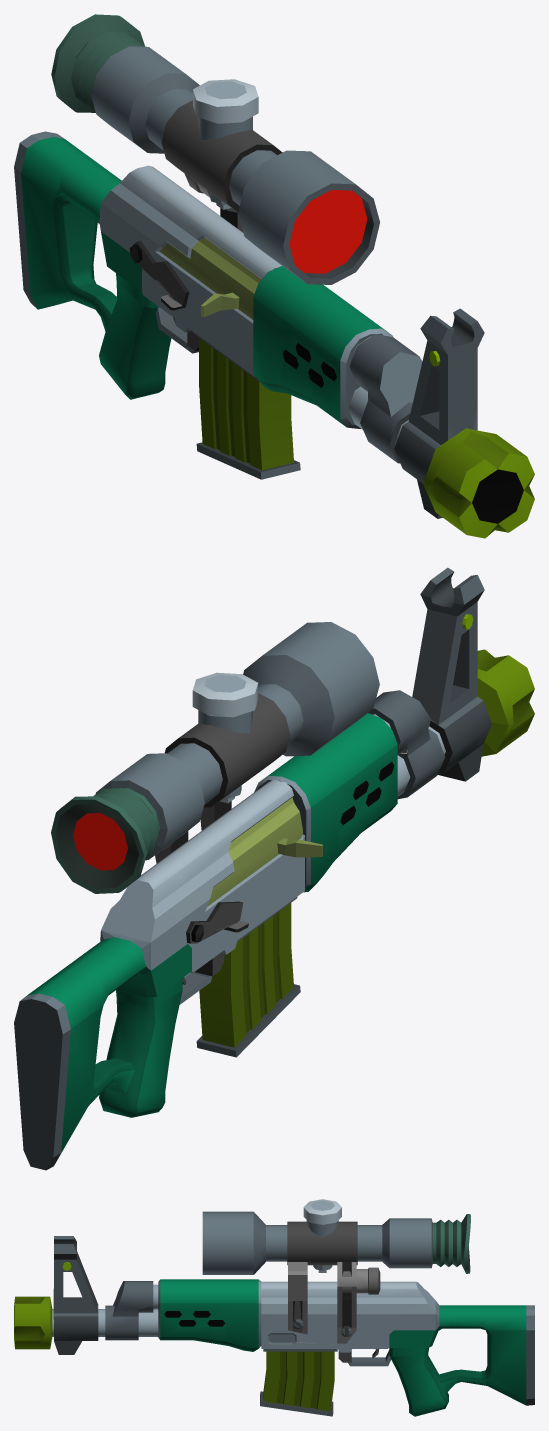
Rendered from Weapon_SniperRifle01_G2_END.fbx.
3 renders of one model, top to bottom at view 1: azimuth 30°, elevation 25°; view 2: azimuth 150°, elevation 25°; view 3: azimuth 270°, elevation 25°, orthographic. The views are drawn at different scales.
Parts seen in each view (by area): view 1: Weapon_SR_02_G1_END; view 2: Weapon_SR_02_G1_END; view 3: Weapon_SR_02_G1_END.
Part boxes in pixels (x1,y1,x2,y2): Weapon_SR_02_G1_END: (14,14,534,538); Weapon_SR_02_G1_END: (14,567,534,1170); Weapon_SR_02_G1_END: (14,1199,534,1416).
Bounding box in the file's own units: 1.81 × 5.68 × 12.94.
